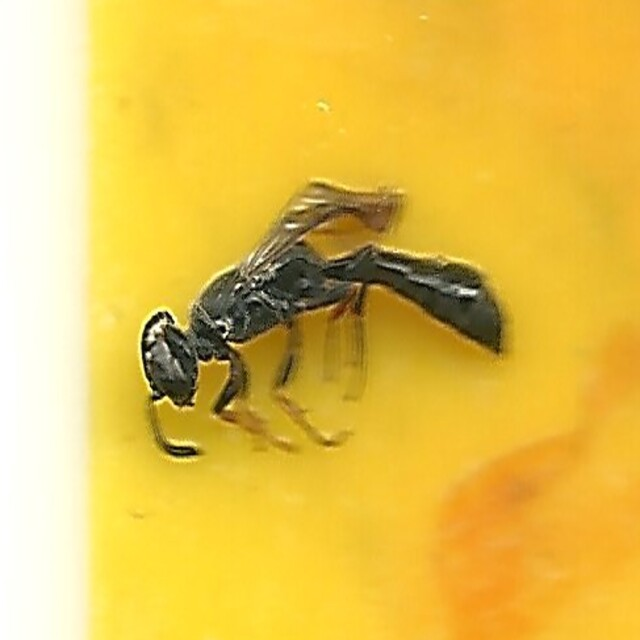Hymenoptera: (131, 179, 509, 461)
